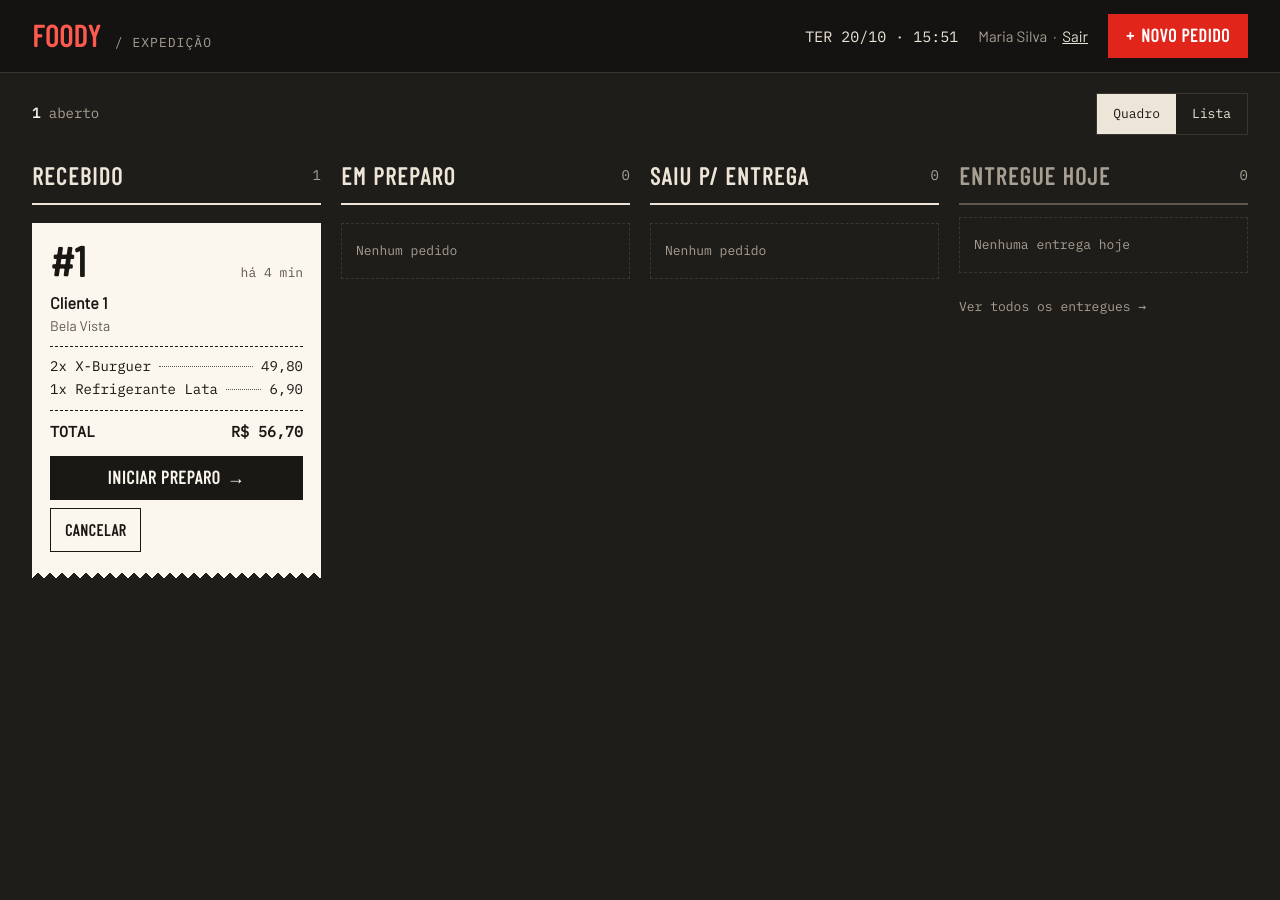
Test case: OrdersPage board › shows the 409 returned by the API
Click the button "Iniciar preparo →" at (176, 478), box [50,456,303,500]
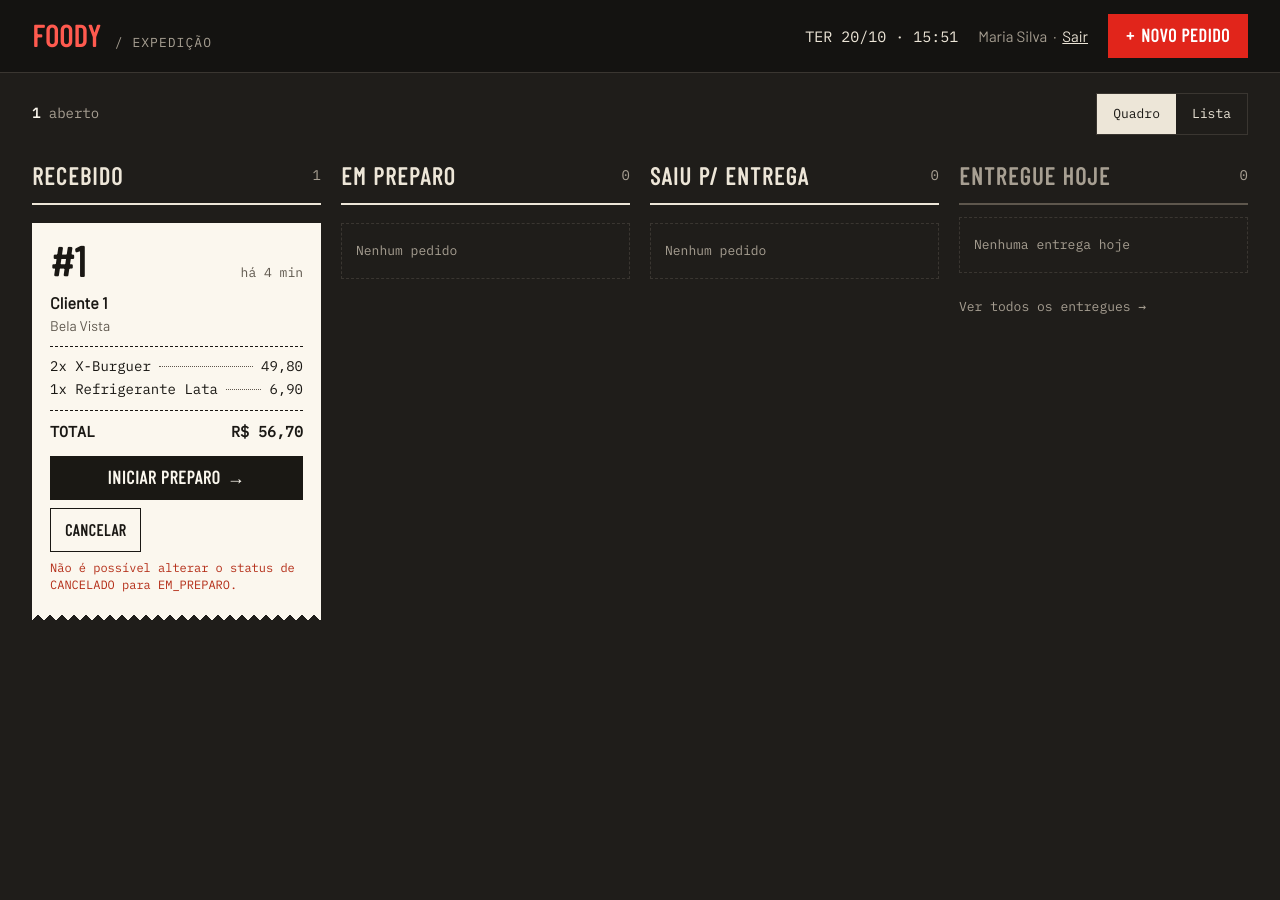
Expected: the message reads "Não é possível alterar o status de CANCELADO para EM_PREPARO.", [50,560,295,592]
